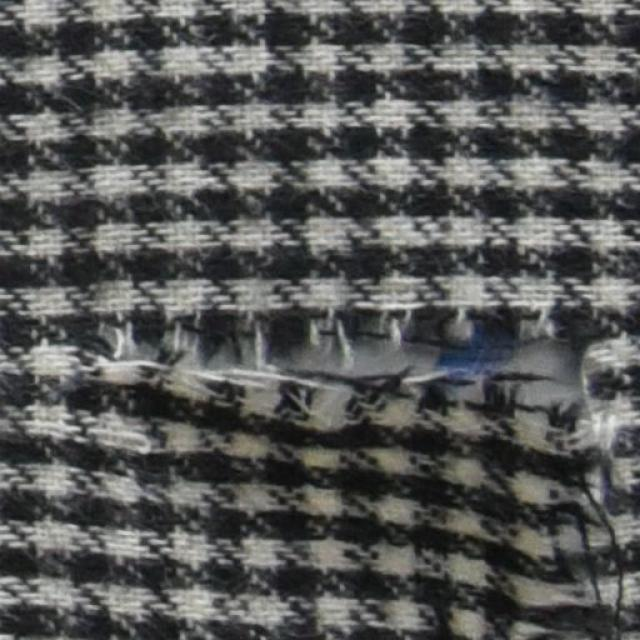Hole: (146, 326, 592, 386)
Snag: (116, 290, 632, 630)
